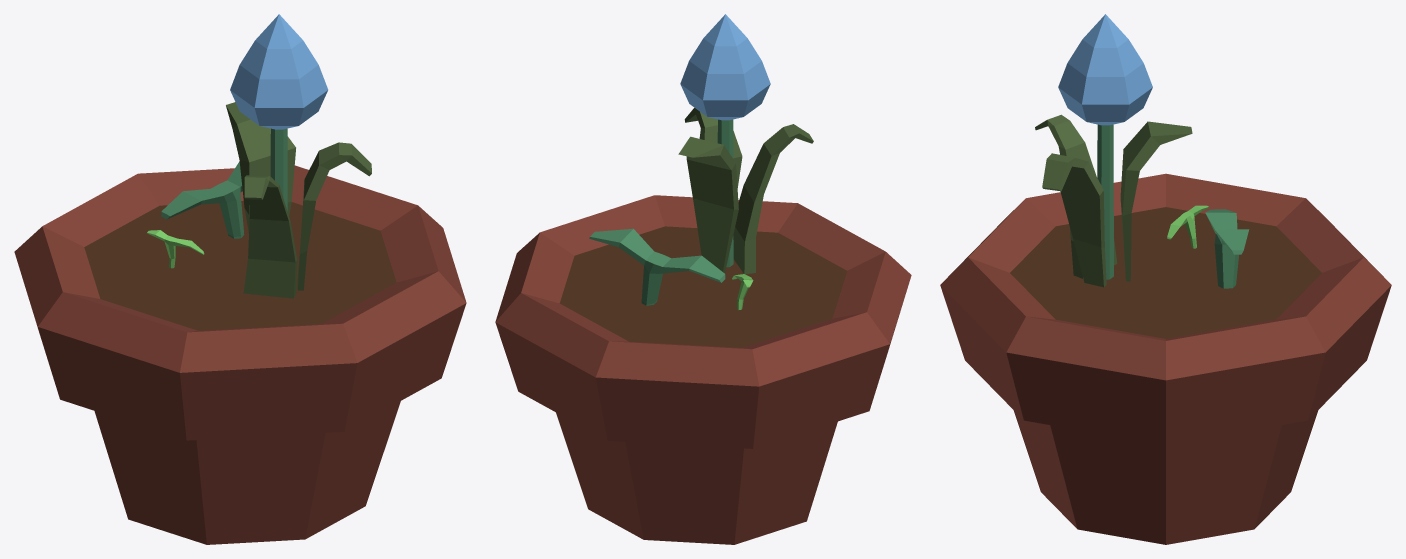
The model's file is Blue Flower.fbx.
3 views of the same model, side by side, from view 1: azimuth 30°, elevation 25°; view 2: azimuth 150°, elevation 25°; view 3: azimuth 270°, elevation 25° (orthographic). The views are drawn at different scales.
Parts seen in each view (by area): view 1: Blue Flower; view 2: Blue Flower; view 3: Blue Flower.
Part boxes in pixels (x1=…): Blue Flower: x1=14, y1=14, x2=466, y2=544; Blue Flower: x1=495, y1=14, x2=911, y2=544; Blue Flower: x1=940, y1=14, x2=1391, y2=544.
Size of the model in its own units: 0.3517 by 0.4137 by 0.3517.
